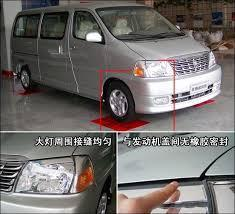Van: (7, 4, 223, 118)
